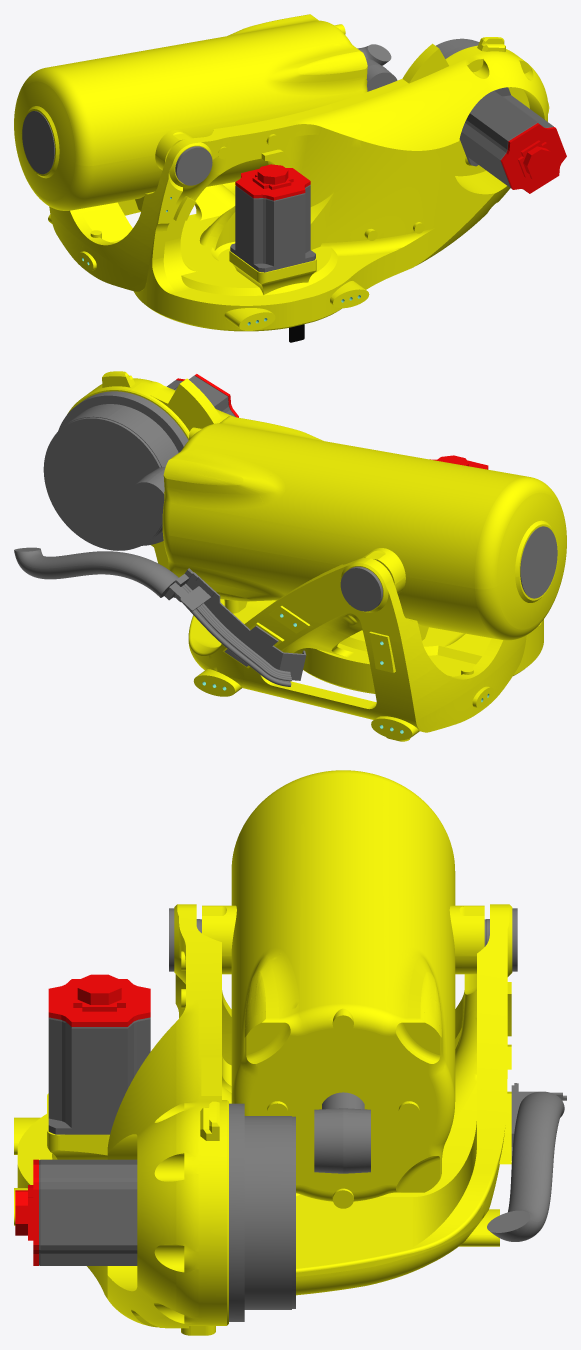
3 views of the same model, one above another, from view 1: azimuth 30°, elevation 25°; view 2: azimuth 150°, elevation 25°; view 3: azimuth 270°, elevation 25° (orthographic). The views are drawn at different scales.
Visible parts, largest first — view 1: Mesh_0; view 2: Mesh_0; view 3: Mesh_0.
Boxes of the visible parts, box(x1,y1,x2,y2) form: Mesh_0: box(14, 14, 566, 342); Mesh_0: box(14, 371, 566, 741); Mesh_0: box(14, 770, 566, 1335).
Size of the model in its own units: 1.4 by 0.9445 by 0.6657.
